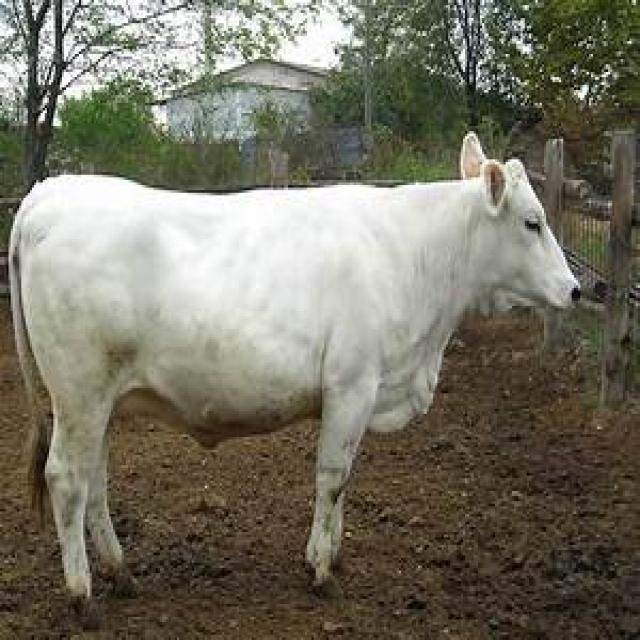cow: (6, 136, 580, 632)
